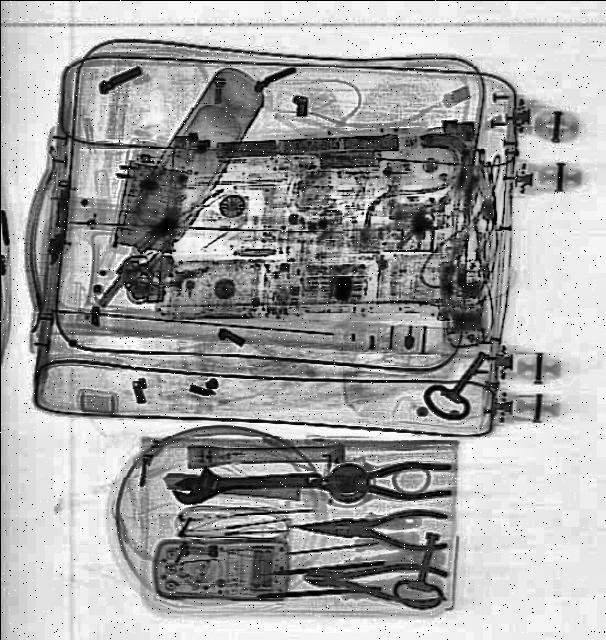Pliers: (297, 550, 445, 606), (286, 502, 446, 550), (309, 459, 452, 499)
Wrench: (168, 460, 318, 502)
